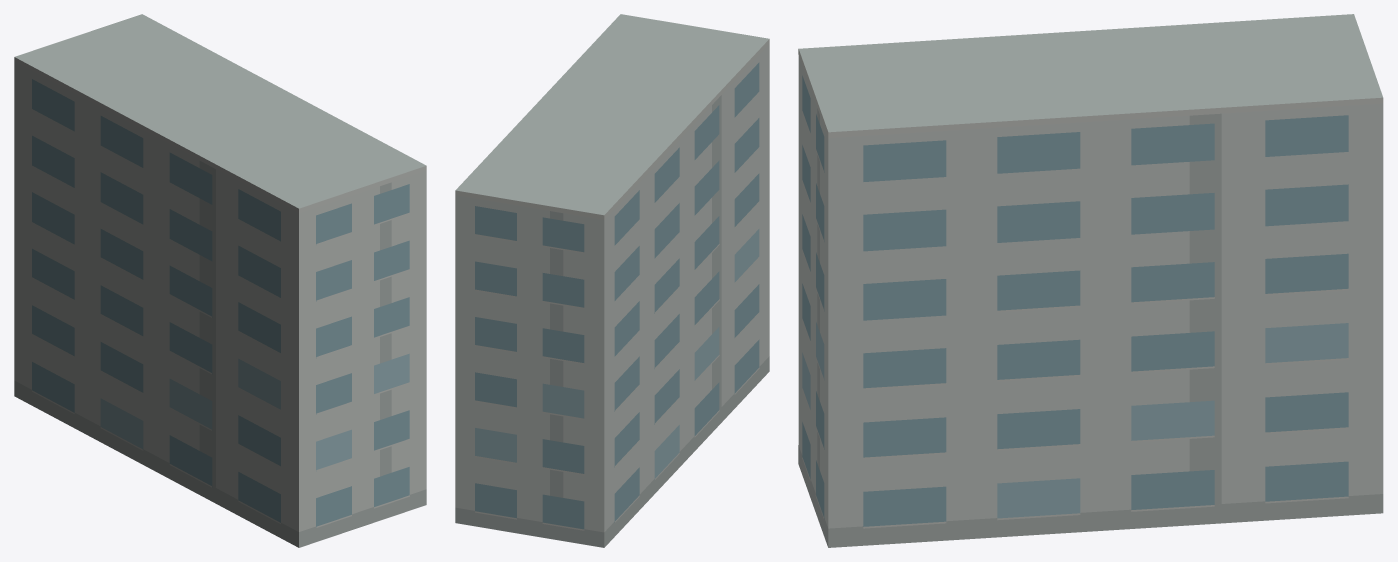
File: survey-upis-32943600.glb
3 views of the same model, side by side, from view 1: azimuth 30°, elevation 25°; view 2: azimuth 150°, elevation 25°; view 3: azimuth 270°, elevation 25° (orthographic). The views are drawn at different scales.
Parts seen in each view (by area): view 1: survey-upis-32943600.tmp; view 2: survey-upis-32943600.tmp; view 3: survey-upis-32943600.tmp.
Part boxes in pixels (x1,y1,x2,y2): survey-upis-32943600.tmp: (14,14,426,547); survey-upis-32943600.tmp: (455,14,769,547); survey-upis-32943600.tmp: (798,14,1383,547).
Bounding box in the file's own units: 10.39 × 17 × 21.69.
